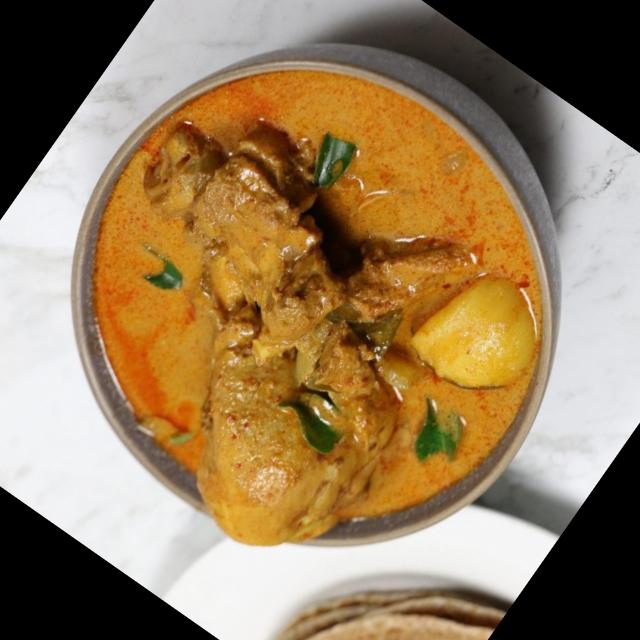chicken: (0, 0, 630, 606)
